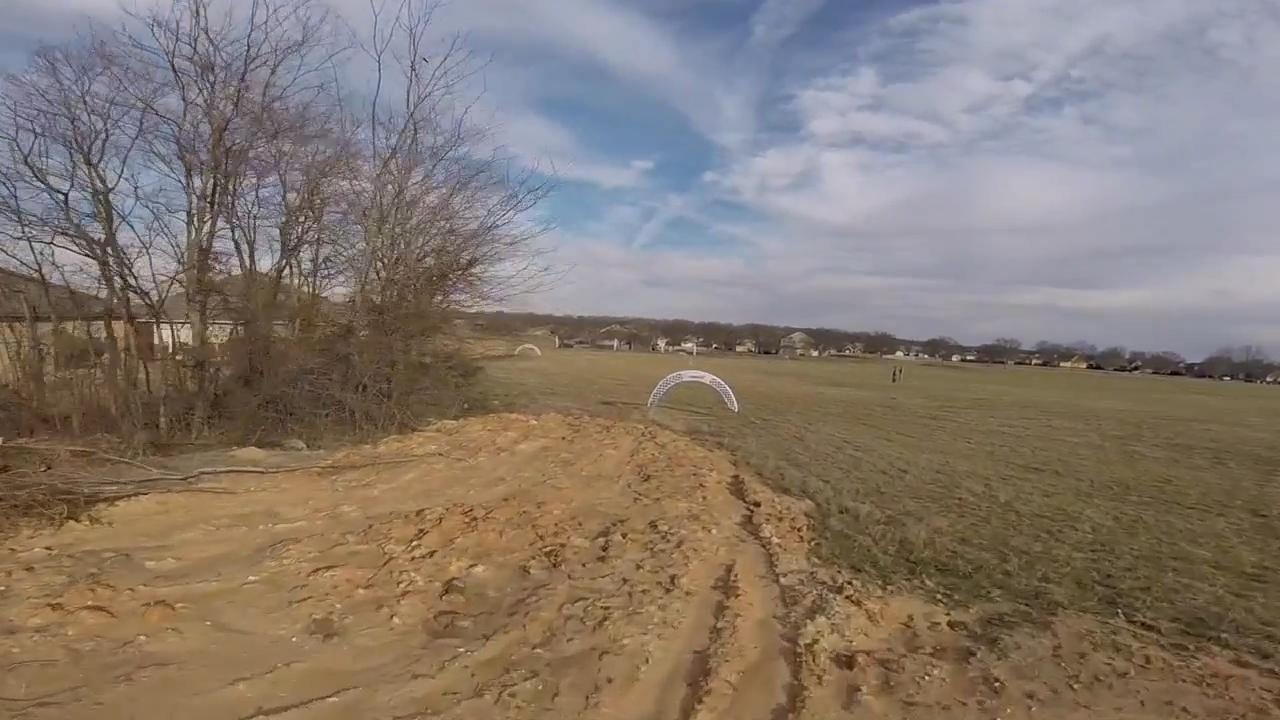gate: (644, 370, 743, 416)
